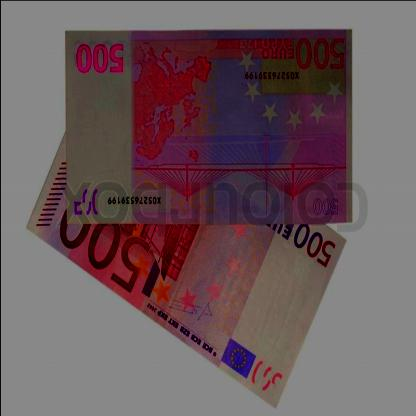euro_banknote: (26, 172, 326, 362), (67, 31, 354, 225)
